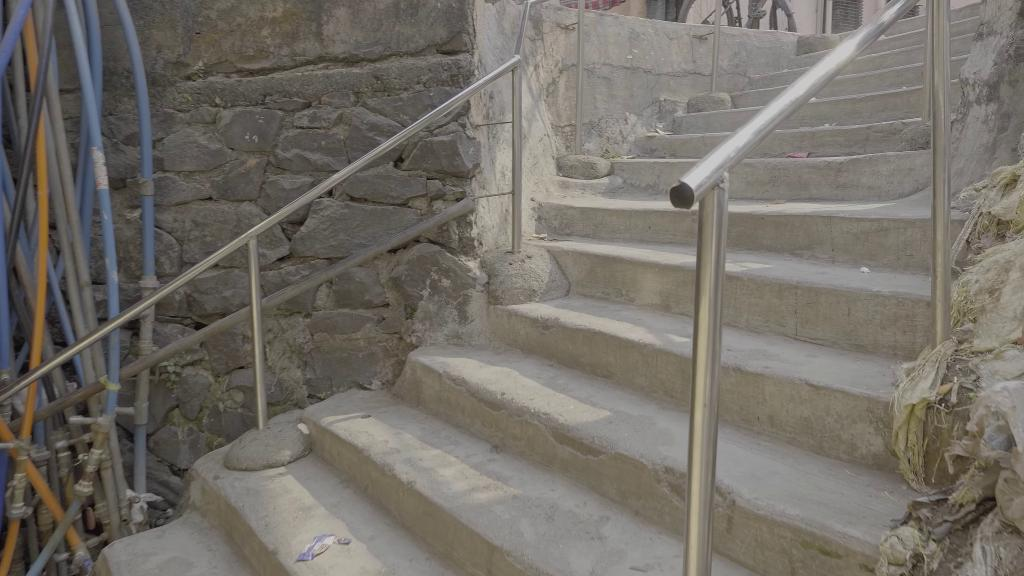garbage: (291, 532, 354, 569)
